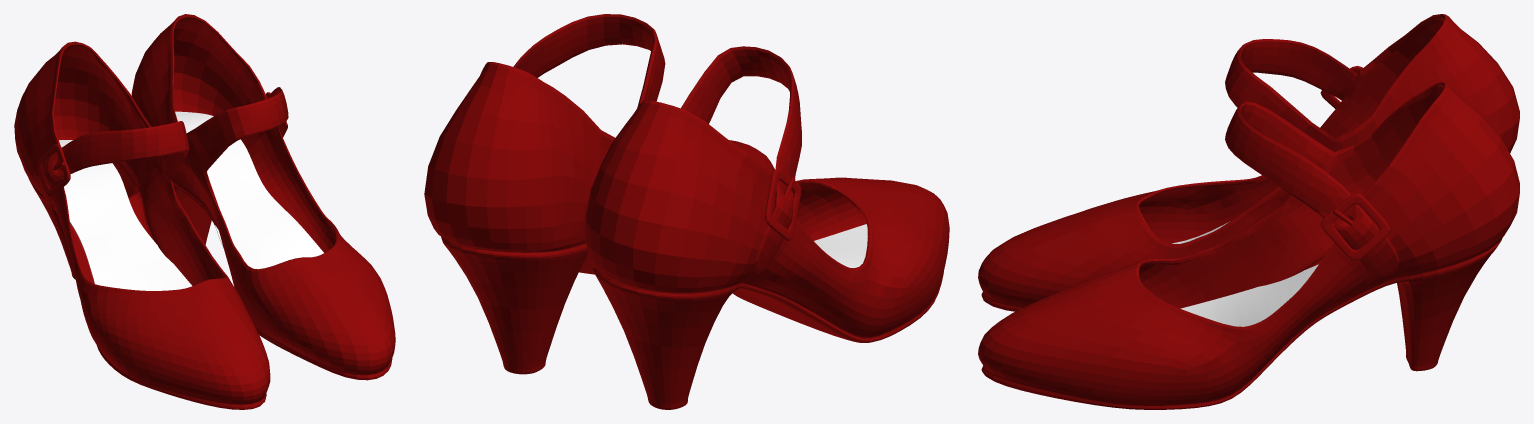
Rendered from redshoe.glb.
The picture shows the model from 3 angles, left to right: view 1: azimuth 30°, elevation 25°; view 2: azimuth 150°, elevation 25°; view 3: azimuth 270°, elevation 25°; orthographic projection. The views are drawn at different scales.
Parts seen in each view (by area): view 1: shoepad; view 2: shoepad; view 3: shoepad.
Boxes of the visible parts, <box> form: shoepad: <box>14,14,395,409</box>; shoepad: <box>424,14,949,409</box>; shoepad: <box>978,14,1519,409</box>.
Size of the model in its own units: 0.4826 by 0.3978 by 0.6862.
